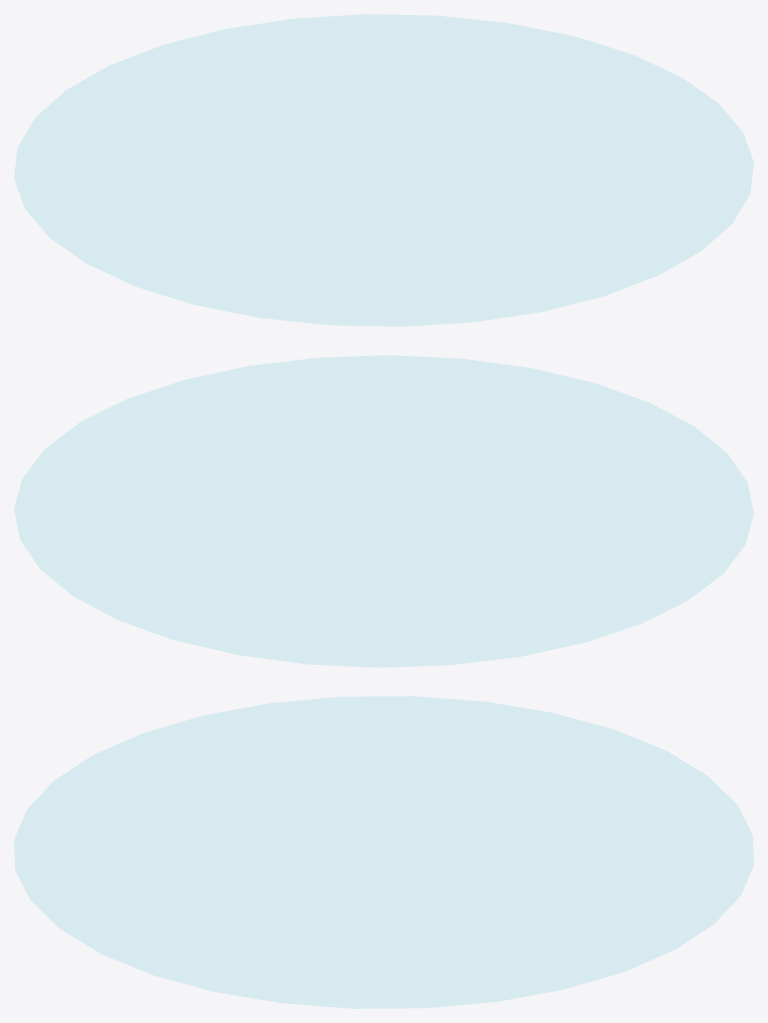
File: pond.glb
3 views of the same model, one above another, from view 1: azimuth 30°, elevation 25°; view 2: azimuth 150°, elevation 25°; view 3: azimuth 270°, elevation 25° (orthographic).
Visible parts, largest first — view 1: pond.002; view 2: pond.002; view 3: pond.002.
Boxes of the visible parts, bbox=[...] form: pond.002: bbox=[14, 14, 753, 326]; pond.002: bbox=[14, 355, 753, 667]; pond.002: bbox=[14, 696, 753, 1008].
Bounding box in the file's own units: 828 × 0.00014 × 828.
